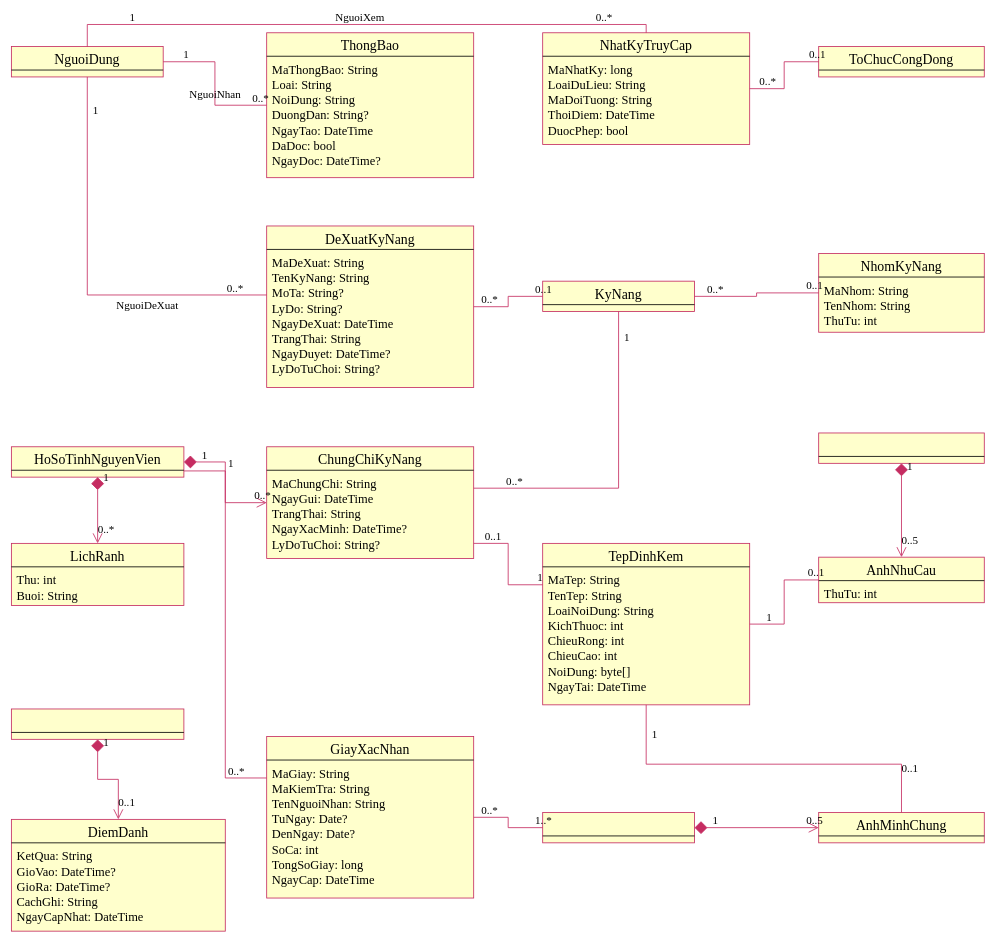
Some shapes in this 996 by 943 pixel diagram are drawn without their labels. The box of each missing label's shape, as (x1, y1, x2, y2) in pixels:
DangKyCaLam: (11, 708, 184, 739)
DongGop: (542, 812, 695, 843)
NhuCauCongDong: (818, 432, 984, 463)
